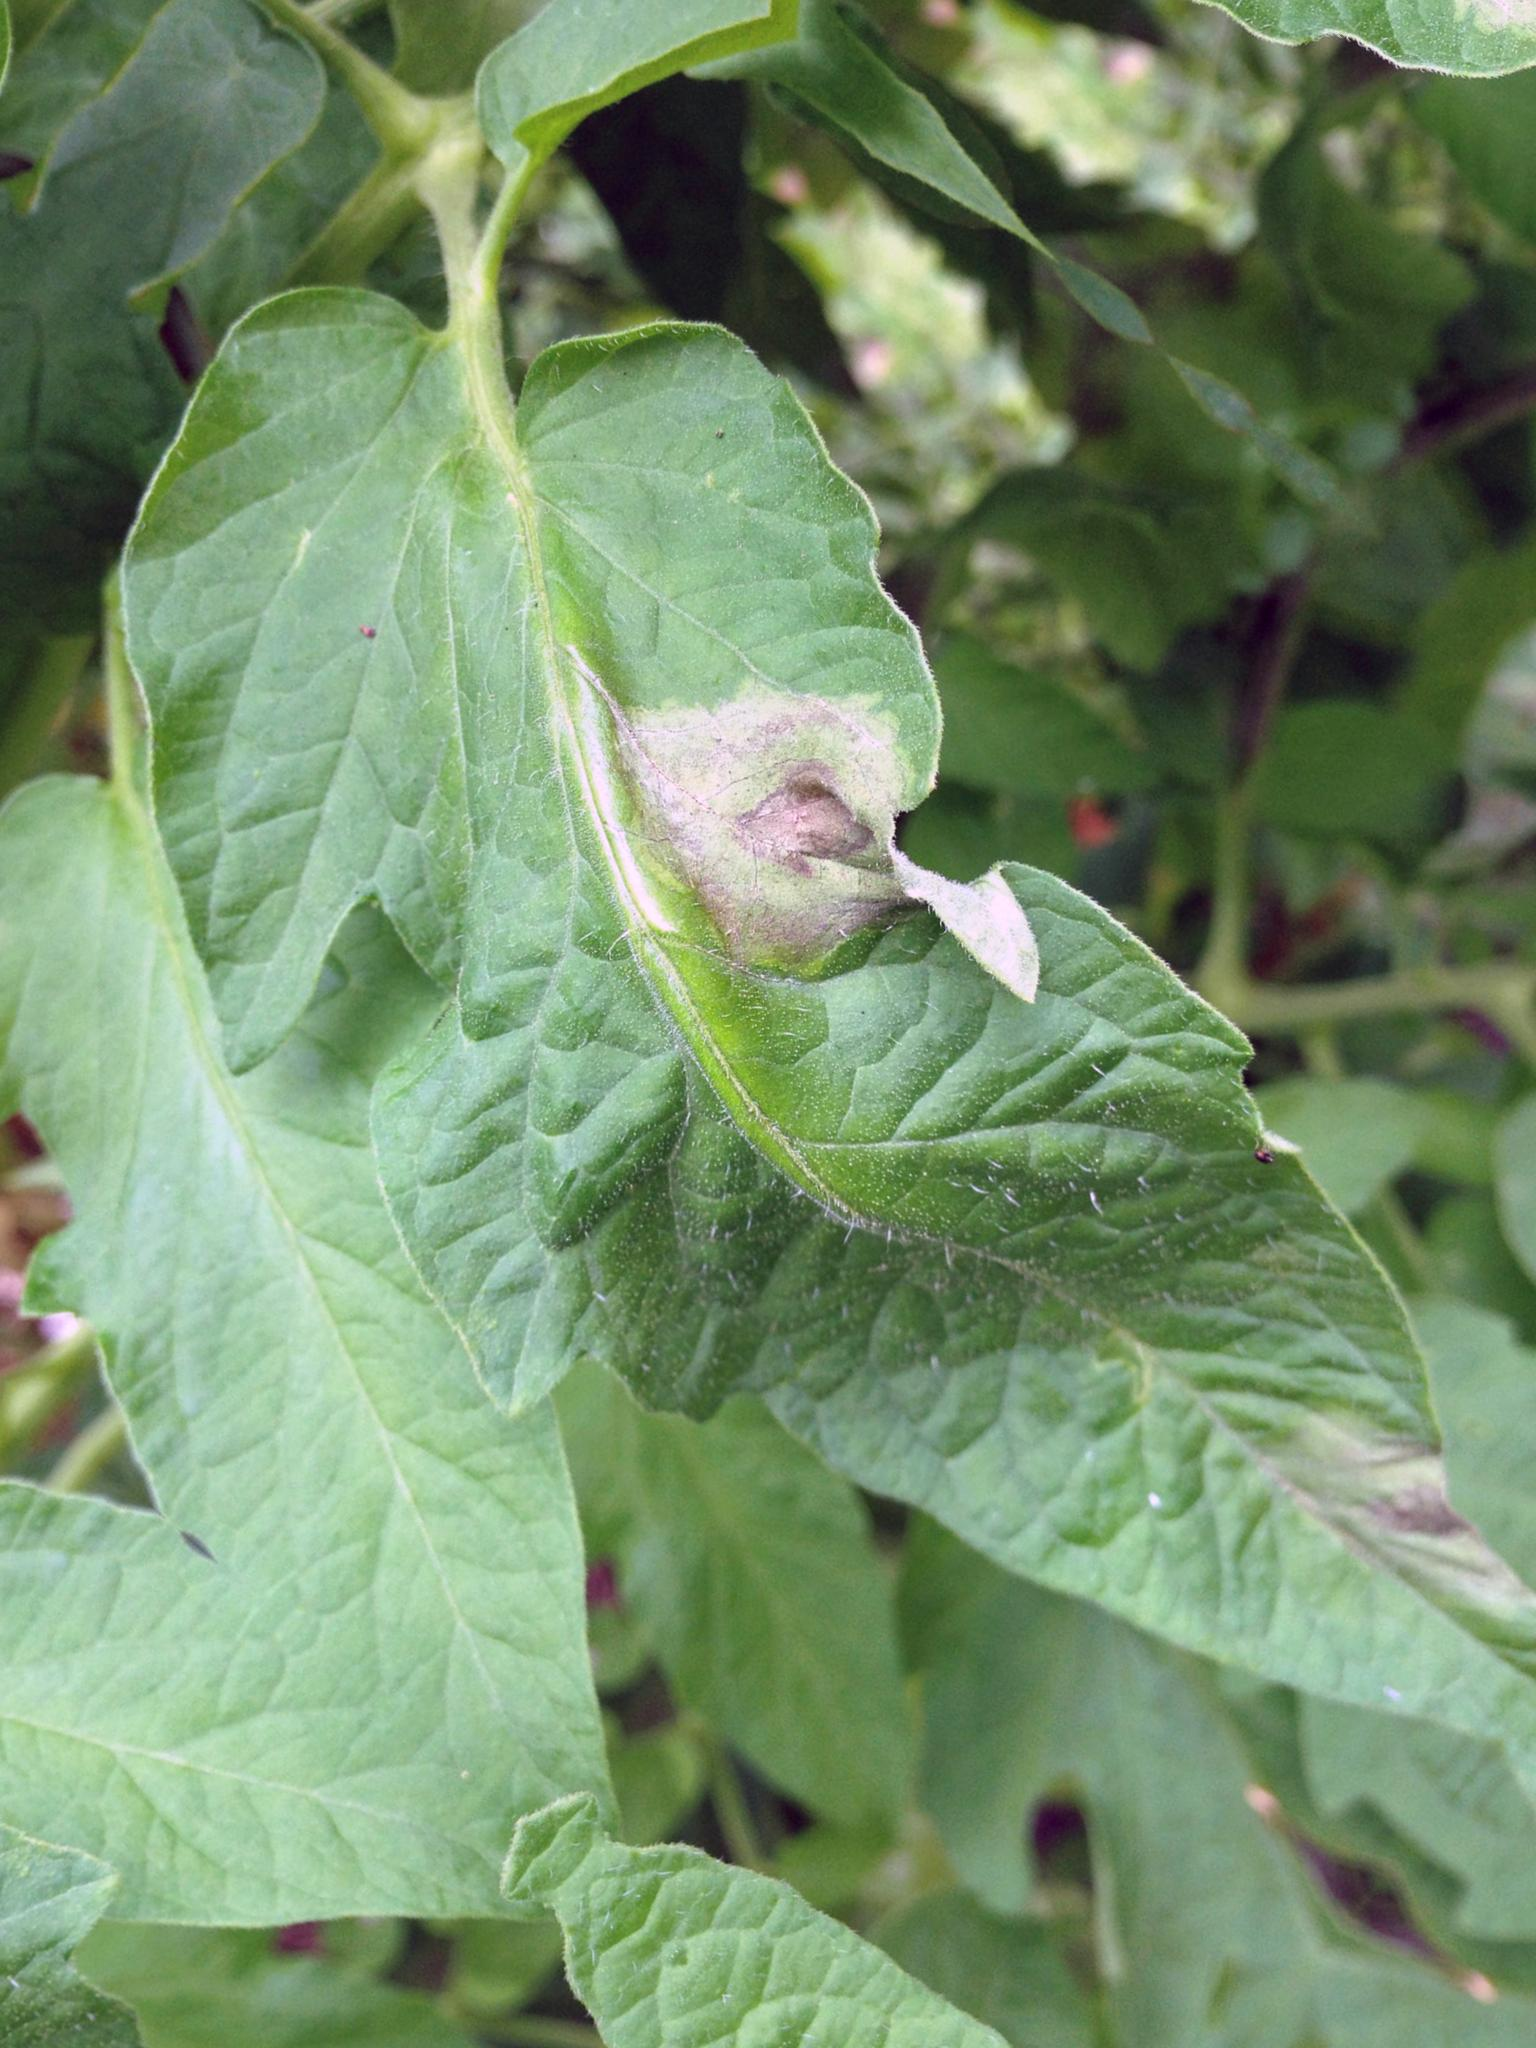Tomato leaf late blight: (0, 58, 1536, 2011)
